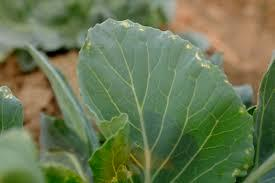Bok-Choy-Diseased: (77, 17, 261, 179)
